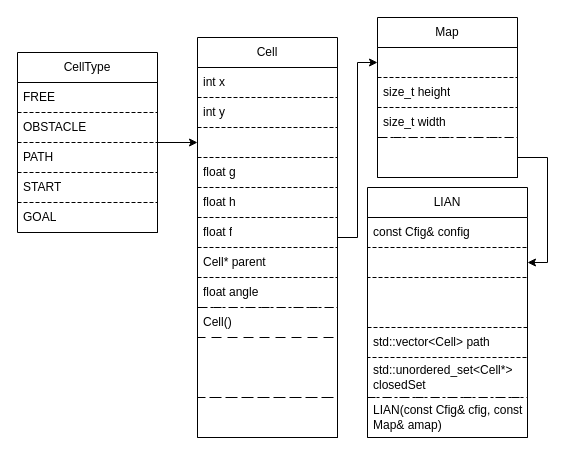
The diagram is 573 pixels wide and 455 high, and some of its shapes have lost their labels. The centre of each missing label's shape, as x and y in pixels:
"Cell(const int& ax, const int& y)" belongs at [267,417].
"Cell(const std::pair<int, int>& p)" belongs at [267,367].
"CellType value" belongs at [267,142].
"const Map& map" belongs at [447,262].
"Map(const std::string& filename)" belongs at [447,157].
"std::priority_queue<Cell*, std::vector<Cell*> CompareCell> openSet" belongs at [447,302].
"std::vector<Cell> cells" belongs at [447,62].
